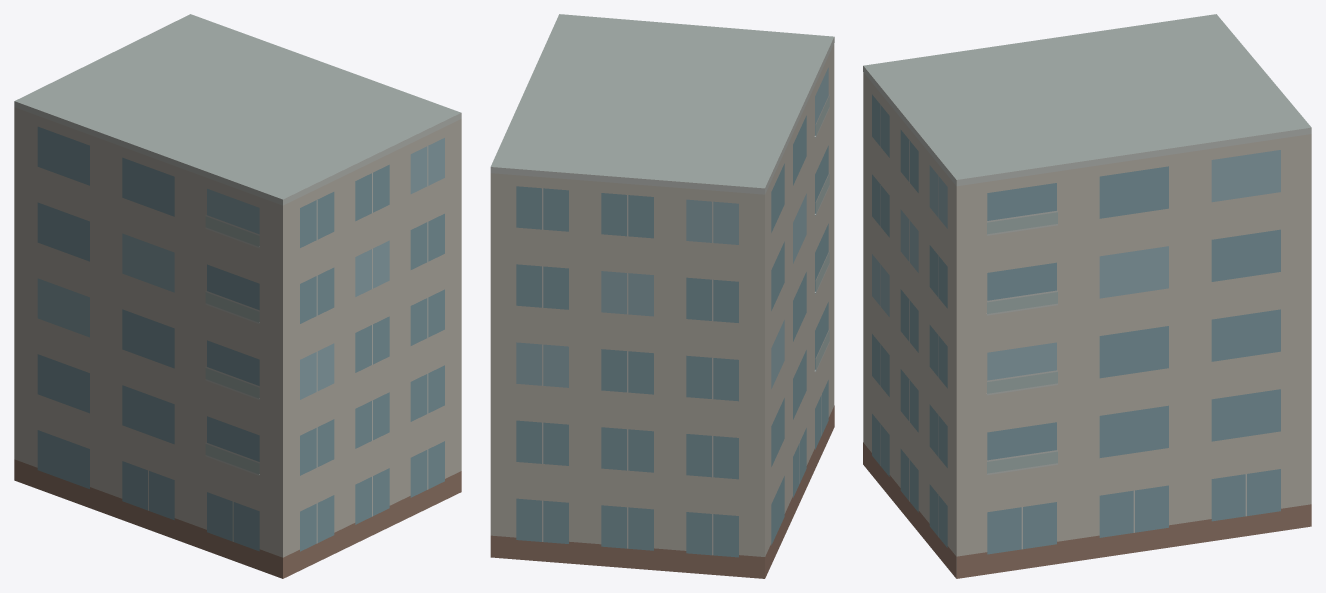
The model's file is survey-upis-32709106.glb.
The picture shows the model from 3 angles, left to right: view 1: azimuth 30°, elevation 25°; view 2: azimuth 150°, elevation 25°; view 3: azimuth 270°, elevation 25°; orthographic projection. The views are drawn at different scales.
Visible parts, largest first — view 1: survey-upis-32709106.tmp; view 2: survey-upis-32709106.tmp; view 3: survey-upis-32709106.tmp.
Part boxes in pixels (x1,y1,x2,y2): survey-upis-32709106.tmp: (14,14,461,578); survey-upis-32709106.tmp: (490,14,834,578); survey-upis-32709106.tmp: (863,14,1311,578).
Size of the model in its own units: 13.62 by 15.25 by 15.55.
